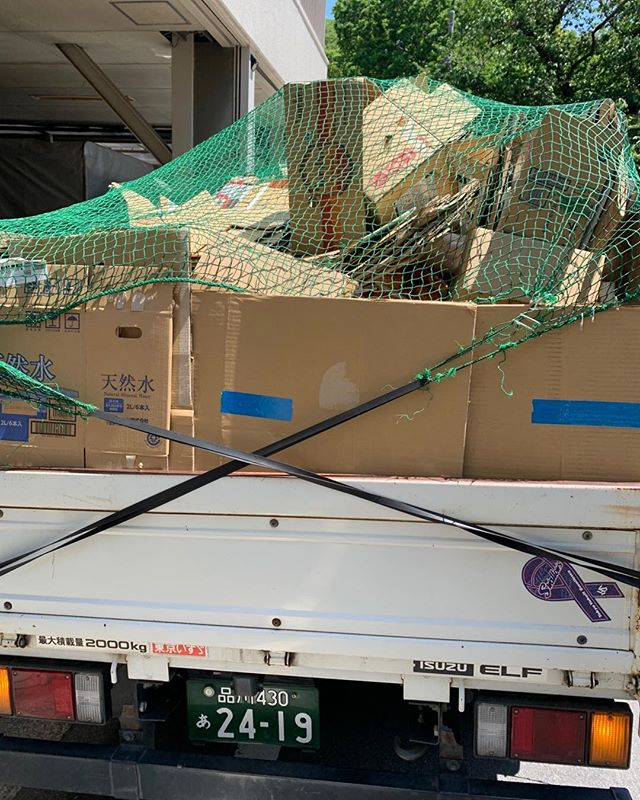trash: (20, 80, 640, 455)
truck: (1, 455, 633, 783)
